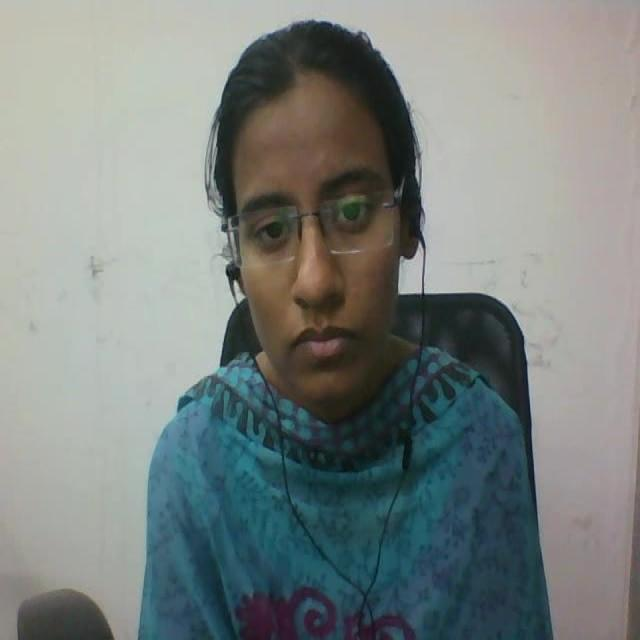Engaged: (191, 0, 437, 420)
